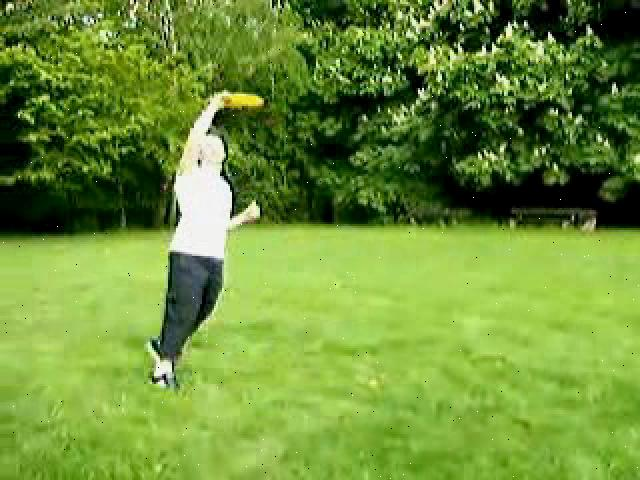T: (131, 74, 261, 398)
